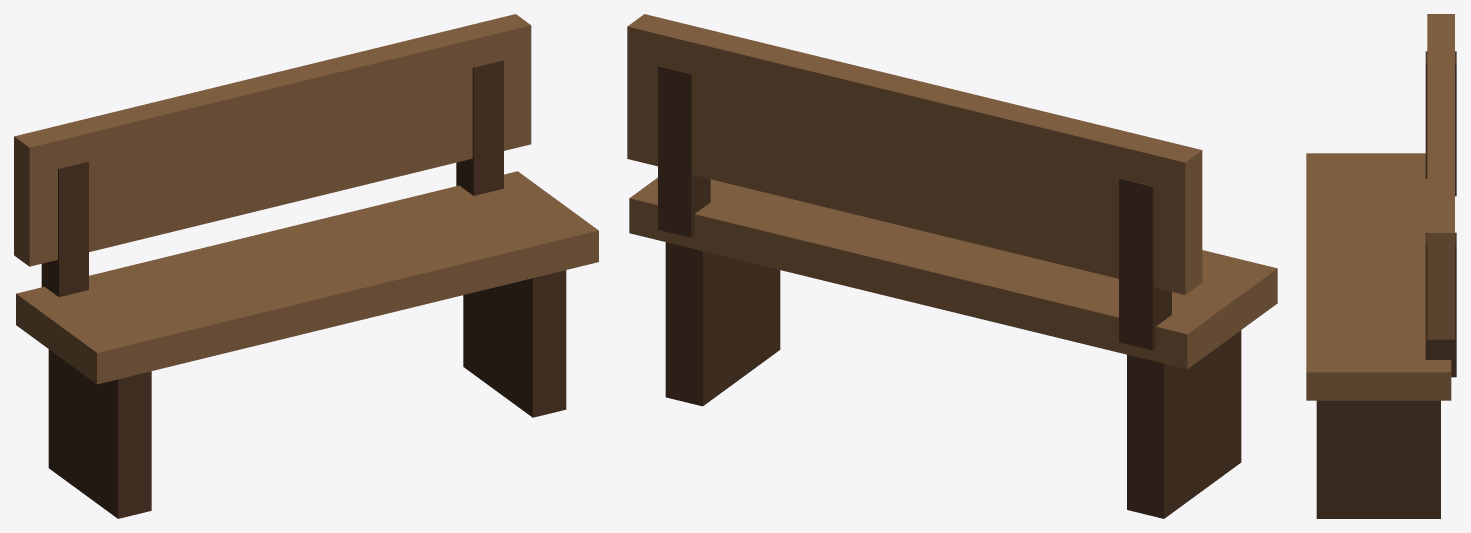
The model's file is prop_bench.glb.
3 views of the same model, side by side, from view 1: azimuth 30°, elevation 25°; view 2: azimuth 150°, elevation 25°; view 3: azimuth 270°, elevation 25° (orthographic). The views are drawn at different scales.
Parts seen in each view (by area): view 1: prop_bench; view 2: prop_bench; view 3: prop_bench.
Part boxes in pixels (left/top/right/bottom): prop_bench: left=14, top=14, right=598, bottom=518; prop_bench: left=627, top=14, right=1277, bottom=518; prop_bench: left=1306, top=14, right=1456, bottom=518.
Bounding box in the file's own units: 1.5 × 0.95 × 0.435.
